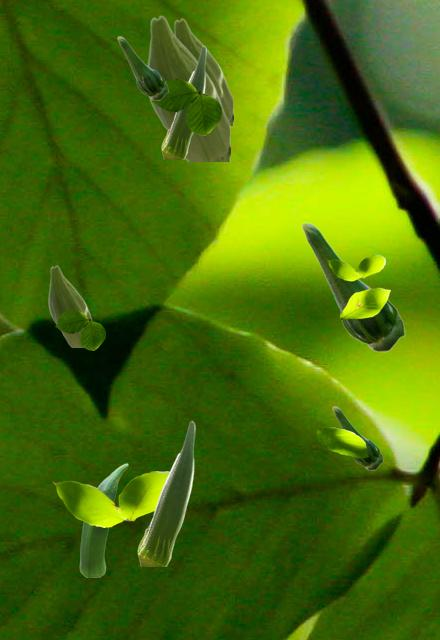okra: (301, 222, 404, 351), (147, 15, 229, 160), (137, 420, 194, 565), (173, 18, 232, 124), (79, 463, 127, 576), (161, 45, 205, 158), (48, 265, 92, 346), (332, 406, 382, 469), (117, 36, 167, 99)
